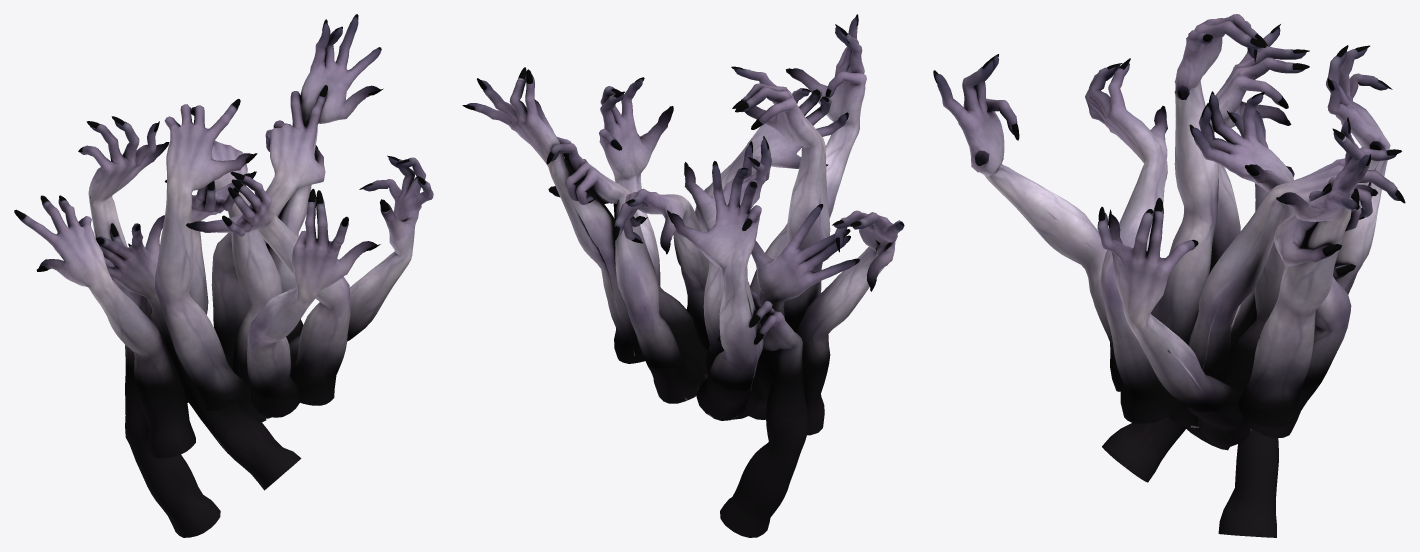
3 renders of one model, left to right at view 1: azimuth 30°, elevation 25°; view 2: azimuth 150°, elevation 25°; view 3: azimuth 270°, elevation 25°, orthographic. The views are drawn at different scales.
Visible parts, largest first — view 1: arm_lowres.005, arm_lowres.010, arm_lowres.001, arm_lowres.013, arm_lowres.004, arm_lowres.011, arm_lowres.007, arm_lowres.006, arm_lowres, arm_lowres.008, arm_lowres.002, arm_lowres.009; view 2: arm_lowres.002, arm_lowres.007, arm_lowres.011, arm_lowres.006, arm_lowres.010, arm_lowres.005, arm_lowres, arm_lowres.004, arm_lowres.001, arm_lowres.008, arm_lowres.009, arm_lowres.013; view 3: arm_lowres.006, arm_lowres, arm_lowres.005, arm_lowres.013, arm_lowres.001, arm_lowres.008, arm_lowres.009, arm_lowres.011, arm_lowres.010, arm_lowres.002, arm_lowres.007, arm_lowres.004.
Part boxes in pixels (x1,y1,x2,y2): arm_lowres.005: (155, 99, 257, 411); arm_lowres.010: (14, 195, 195, 457); arm_lowres.001: (247, 188, 380, 417); arm_lowres.013: (186, 171, 350, 405); arm_lowres.004: (96, 215, 301, 490); arm_lowres.011: (211, 85, 327, 365); arm_lowres.007: (104, 223, 220, 537); arm_lowres.006: (266, 14, 383, 341); arm_lowres: (288, 155, 433, 373); arm_lowres.008: (165, 123, 282, 418); arm_lowres.002: (78, 116, 188, 402); arm_lowres.009: (189, 171, 266, 422); arm_lowres.002: (667, 161, 763, 420); arm_lowres.007: (717, 282, 808, 537); arm_lowres.011: (546, 136, 705, 403); arm_lowres.006: (462, 67, 645, 363); arm_lowres.010: (796, 210, 904, 435); arm_lowres.005: (731, 66, 830, 332); arm_lowres: (599, 77, 708, 396); arm_lowres.004: (749, 204, 859, 419); arm_lowres.001: (749, 14, 866, 302); arm_lowres.008: (613, 188, 709, 351); arm_lowres.009: (684, 136, 772, 419); arm_lowres.013: (686, 88, 848, 315); arm_lowres.006: (1238, 117, 1370, 427); arm_lowres: (1097, 197, 1252, 447); arm_lowres.005: (1150, 14, 1268, 345); arm_lowres.013: (1085, 58, 1181, 423); arm_lowres.001: (933, 54, 1122, 391); arm_lowres.008: (1169, 147, 1405, 427); arm_lowres.009: (1183, 91, 1294, 450); arm_lowres.011: (1243, 177, 1361, 438); arm_lowres.010: (1208, 24, 1309, 273); arm_lowres.002: (1326, 45, 1392, 294); arm_lowres.007: (1218, 264, 1355, 537); arm_lowres.004: (1102, 103, 1294, 482).
Size of the model in its own units: 1.19 by 1.26 by 1.01.
1 material, 1 textured.
